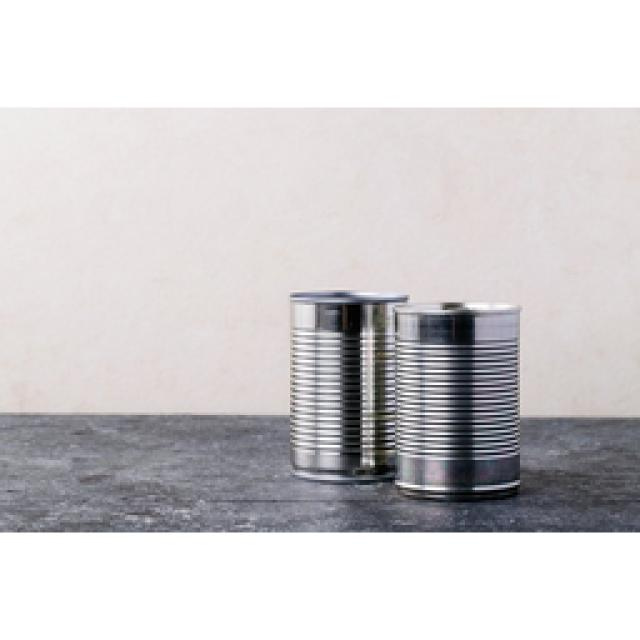alumunium: (290, 290, 518, 498)
